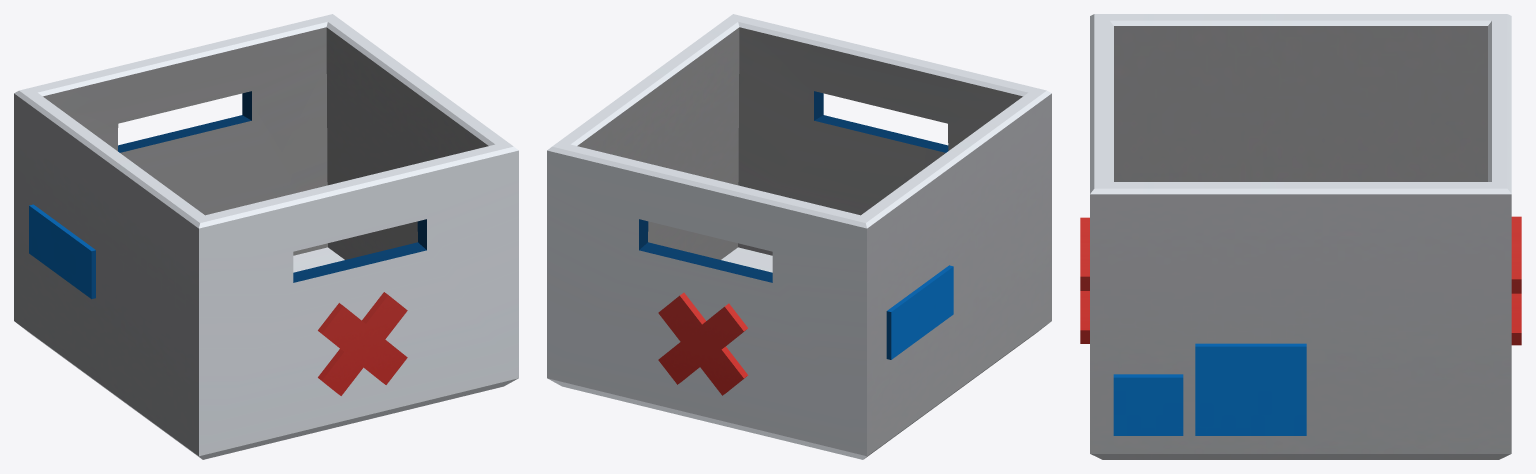
The model's file is SM_ArchiveBox01.fbx.
The picture shows the model from 3 angles, left to right: view 1: azimuth 30°, elevation 25°; view 2: azimuth 150°, elevation 25°; view 3: azimuth 270°, elevation 25°; orthographic projection. The views are drawn at different scales.
Visible parts, largest first — view 1: SM_Box001; view 2: SM_Box001; view 3: SM_Box001.
Boxes of the visible parts, left/top/right/bottom form: SM_Box001: left=14, top=14, right=518, bottom=459; SM_Box001: left=547, top=14, right=1051, bottom=459; SM_Box001: left=1080, top=14, right=1521, bottom=459.
Bounding box in the file's own units: 40.62 × 28.33 × 41.24.
Materials: 1 (1 with a texture image).
